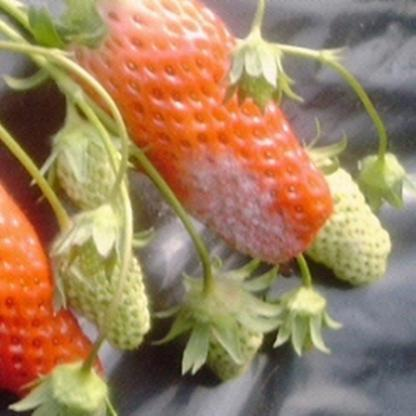Strawberry_Powdery_Mildew_Fruit: (168, 136, 314, 265)
